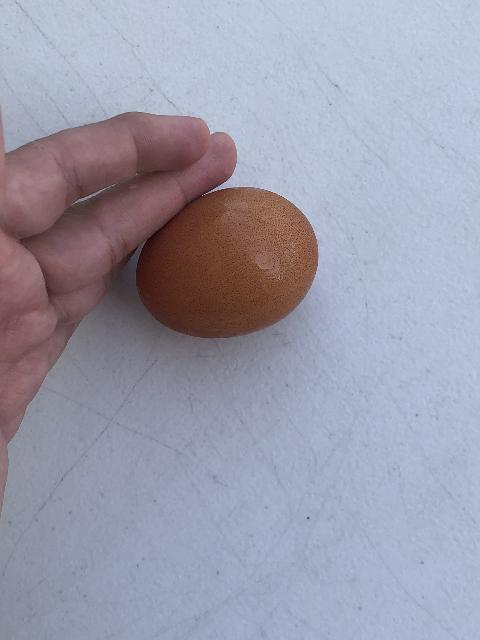Sano: (135, 185, 319, 339)
